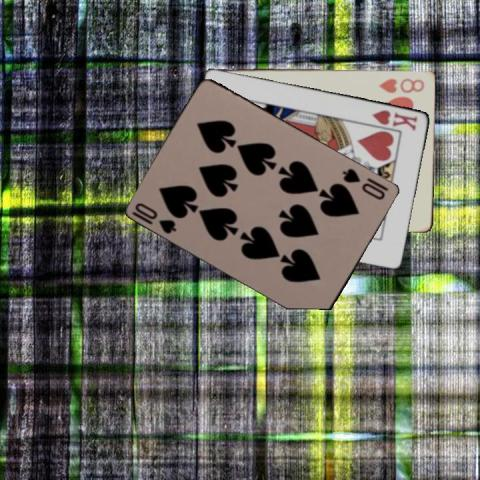10s: (129, 200, 179, 236), (340, 165, 387, 201)
8h: (375, 75, 426, 94)
Kh: (370, 107, 420, 132)
